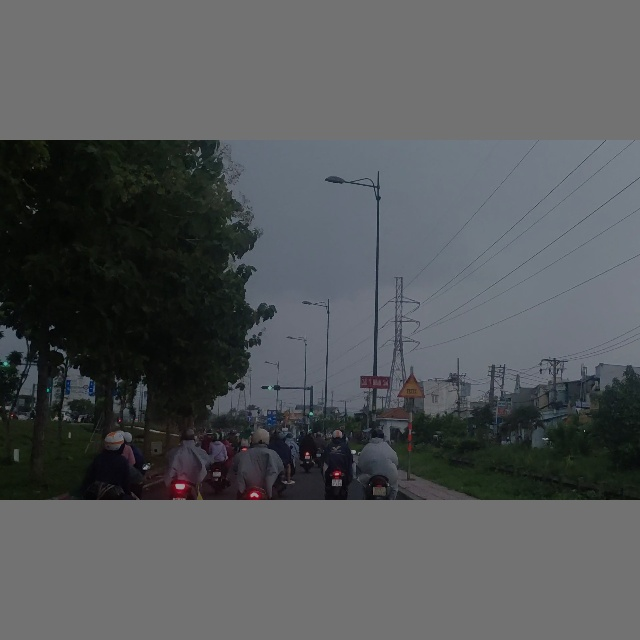W.210: (398, 374, 424, 398)
